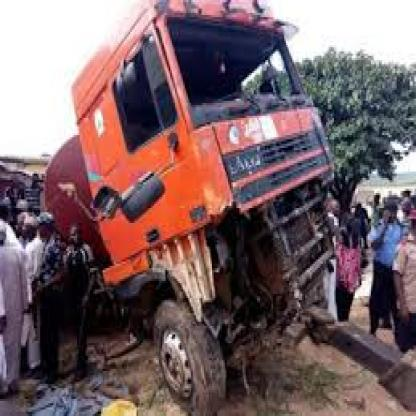accident: (85, 0, 351, 416)
